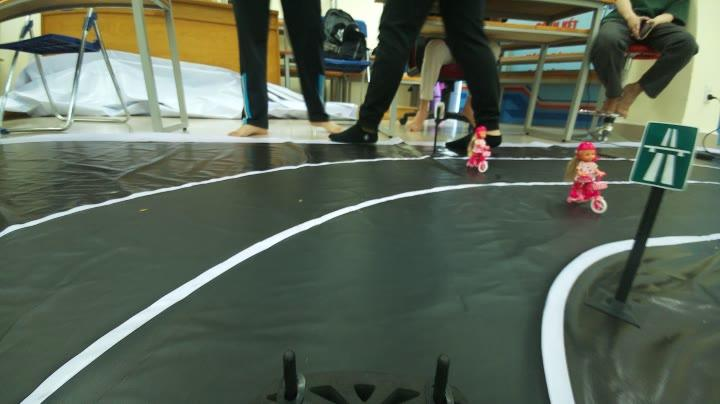highway_entry: (632, 117, 694, 189)
pedestrian: (562, 136, 614, 214), (460, 124, 500, 174)
